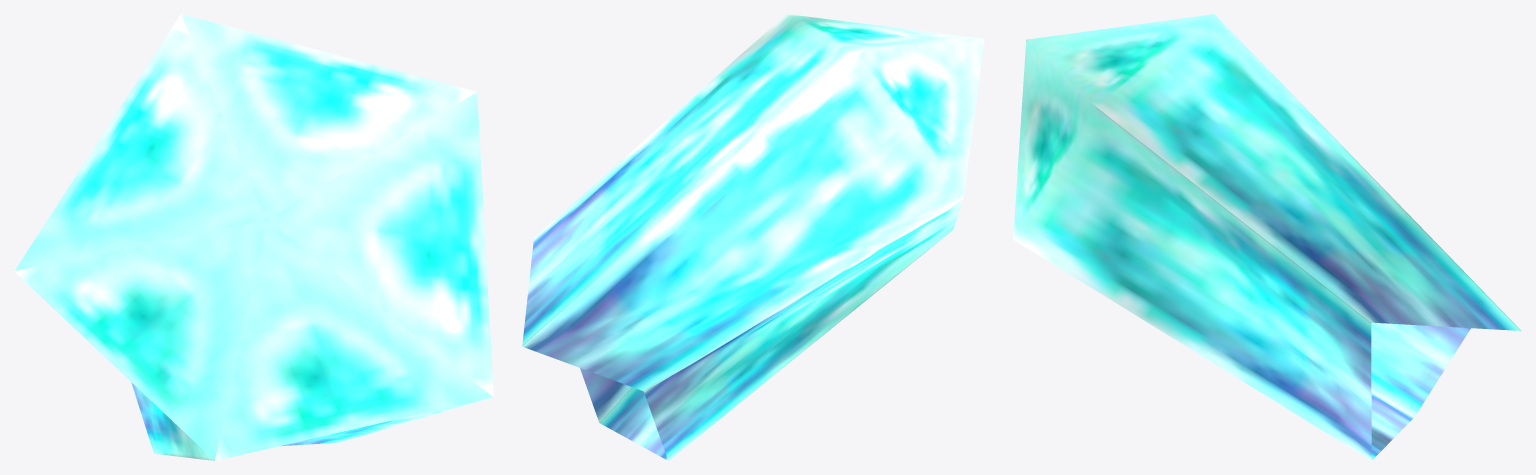
The model's file is crystal-teal.glb.
The picture shows the model from 3 angles, left to right: view 1: azimuth 30°, elevation 25°; view 2: azimuth 150°, elevation 25°; view 3: azimuth 270°, elevation 25°; orthographic projection. The views are drawn at different scales.
Parts seen in each view (by area): view 1: Crystals Teal; view 2: Crystals Teal; view 3: Crystals Teal.
Part boxes in pixels (x1=…): Crystals Teal: x1=14, y1=14, x2=493, y2=460; Crystals Teal: x1=522, y1=14, x2=984, y2=460; Crystals Teal: x1=1013, y1=14, x2=1521, y2=460.
Bounding box in the file's own units: 1.58 × 1.56 × 1.98.
Materials: 1 (1 with a texture image).
